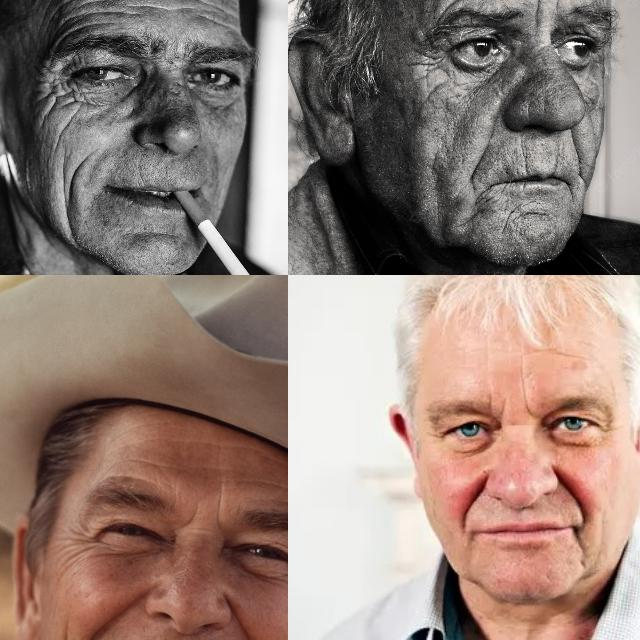chin: (495, 202, 545, 228)
crows_feet: (38, 67, 72, 111), (62, 520, 98, 558), (414, 42, 446, 80)
forehead: (51, 0, 125, 21), (125, 454, 181, 480), (142, 0, 201, 21), (204, 0, 235, 34), (248, 473, 288, 492), (546, 345, 582, 363), (514, 356, 530, 394)
frown_line: (209, 488, 229, 534), (176, 498, 202, 532), (529, 0, 547, 32), (518, 394, 534, 418), (496, 396, 508, 419)
gummy_smile: (88, 595, 147, 640), (226, 596, 280, 640), (469, 110, 498, 180), (556, 472, 588, 516), (566, 130, 588, 178), (461, 477, 484, 521)
masseter: (53, 169, 83, 231)
sad_smile: (465, 189, 493, 229), (574, 530, 590, 570)
